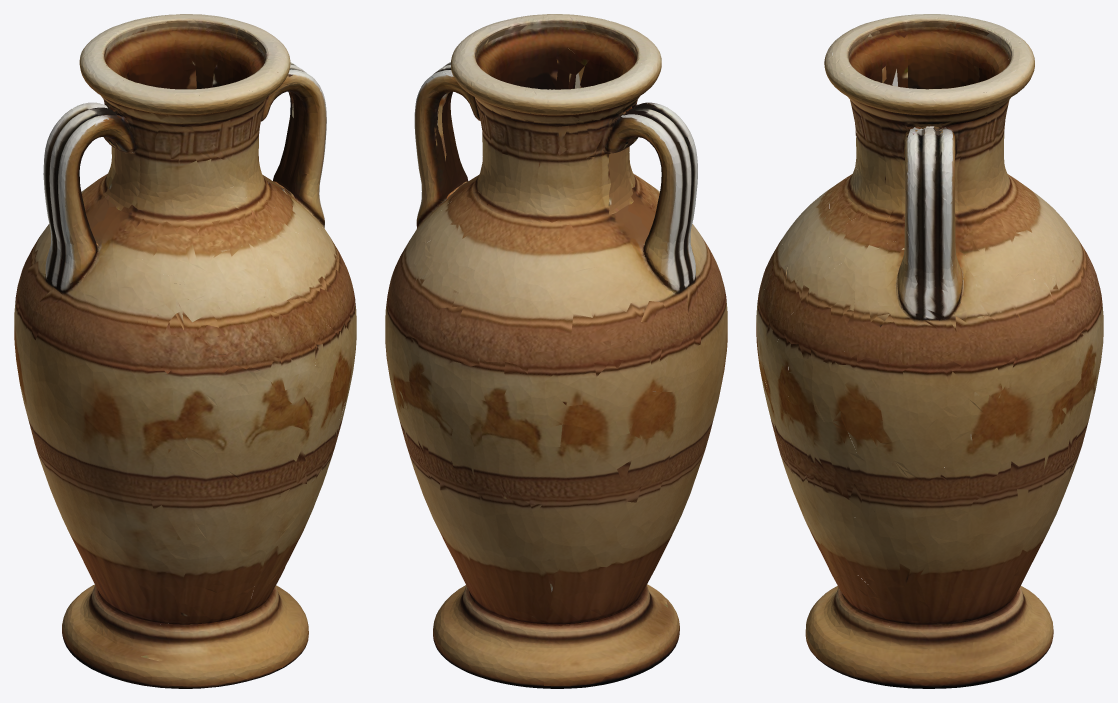
File: vase1.glb
3 views of the same model, side by side, from view 1: azimuth 30°, elevation 25°; view 2: azimuth 150°, elevation 25°; view 3: azimuth 270°, elevation 25° (orthographic).
Visible parts, largest first — view 1: geometry_0; view 2: geometry_0; view 3: geometry_0.
Boxes of the visible parts, x1,y1,x2,y2 form: geometry_0: (14,14,356,688); geometry_0: (385,14,727,688); geometry_0: (756,14,1103,688).
Size of the model in its own units: 1.05 by 1.99 by 1.07.
Materials: 1 (1 with a texture image).
